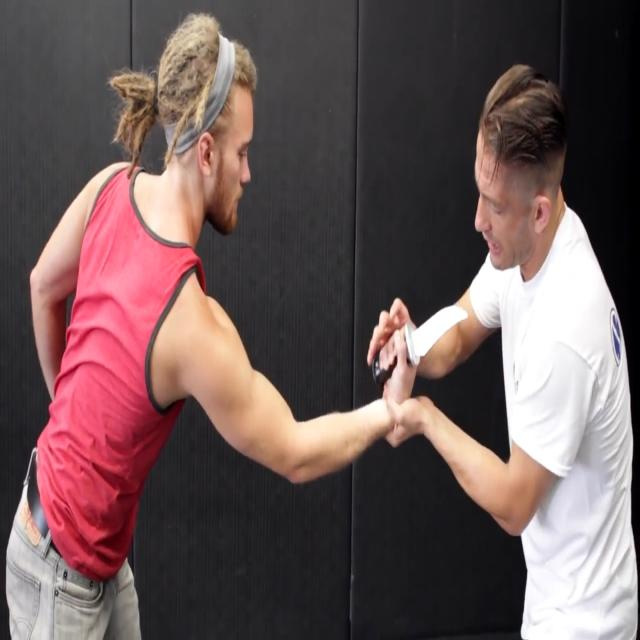knife: (371, 305, 471, 385)
